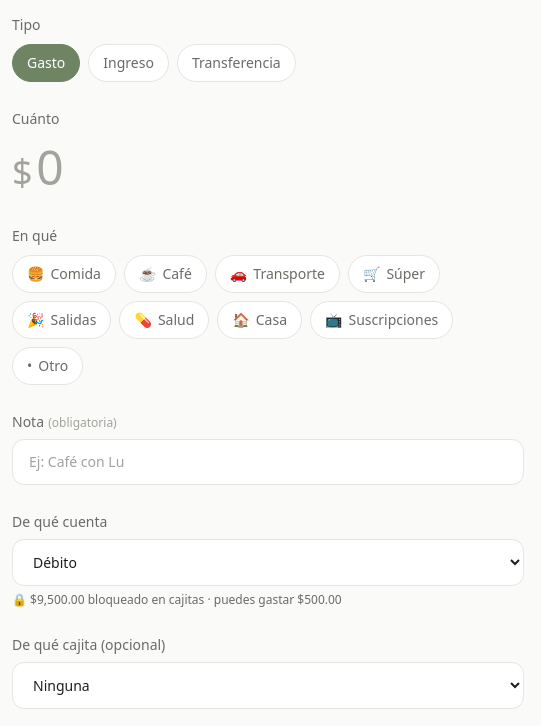
ExpenseForm › envelopes › shows what's locked in envelopes and what's free to spend, except for income
Expected: the text "🔒 $9,500.00 bloqueado en cajitas · puedes gastar $500.00" is shown, x1=12 y1=591 x2=342 y2=608
Step 1. Click the button "Ingreso" → (129, 63), box x1=88 y1=44 x2=169 y2=82
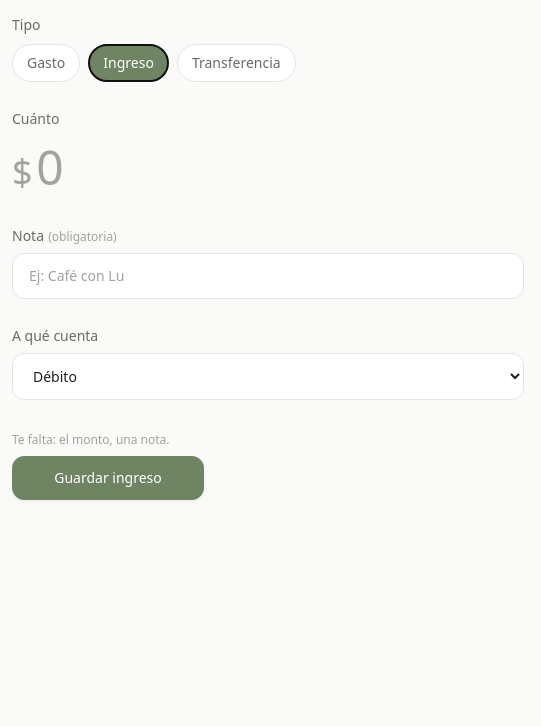
Expected: the text "bloqueado en cajitas" is gone
